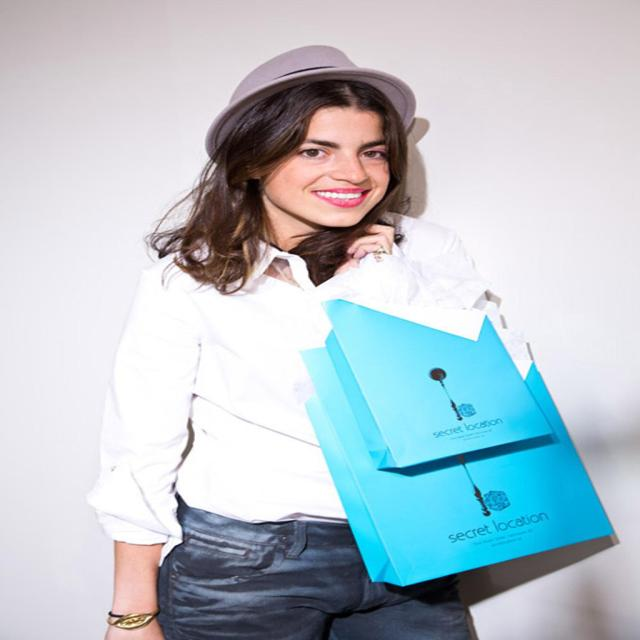Face: (264, 100, 394, 232)
